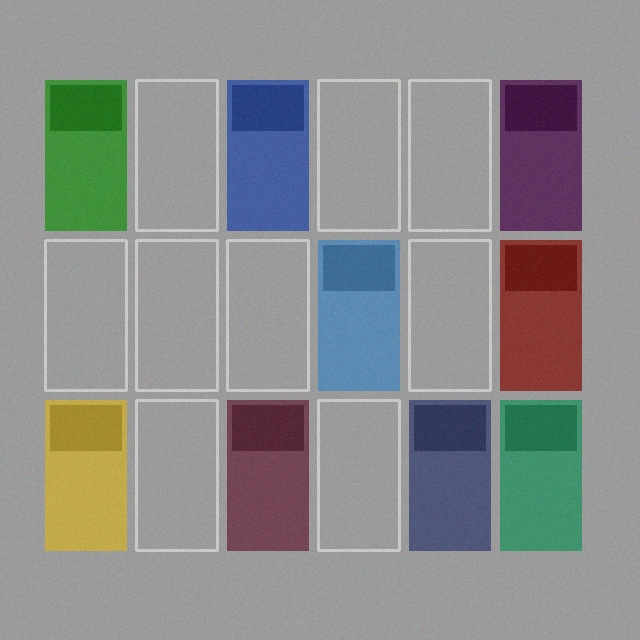space-empty: (136, 80, 217, 230), (318, 80, 399, 230), (409, 80, 490, 230), (45, 240, 126, 390), (136, 240, 217, 390), (227, 240, 308, 390), (409, 240, 490, 390), (136, 400, 217, 550), (318, 400, 399, 550)
space-occupied: (45, 80, 126, 230), (227, 80, 308, 230), (500, 80, 581, 230), (318, 240, 399, 390), (500, 240, 581, 390), (45, 400, 126, 550), (227, 400, 308, 550), (409, 400, 490, 550), (500, 400, 581, 550)
